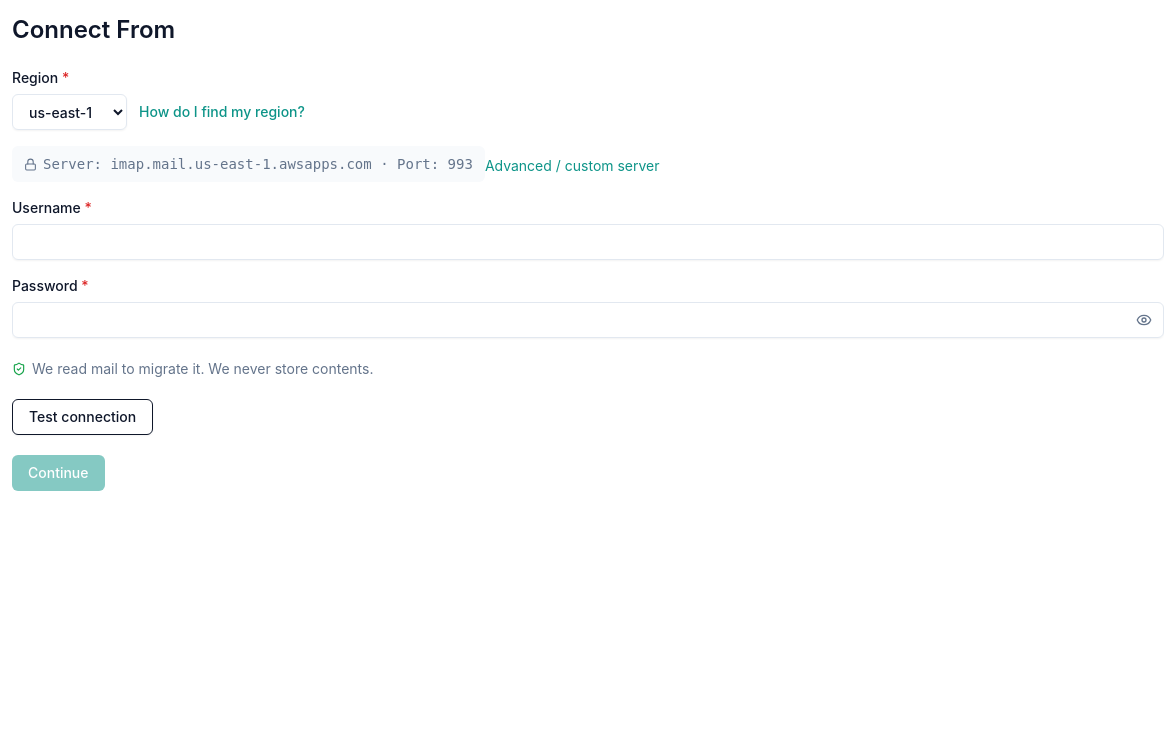
Test case: StepConnect (IMAP from / WorkMail) › disables Continue until a test connection succeeds
Expected: the button "Continue" is disabled, 12,455 -> 104,491
Type "old@biz.com" into the field labelled "Username *" at (588, 242), box 12,224 -> 1164,260
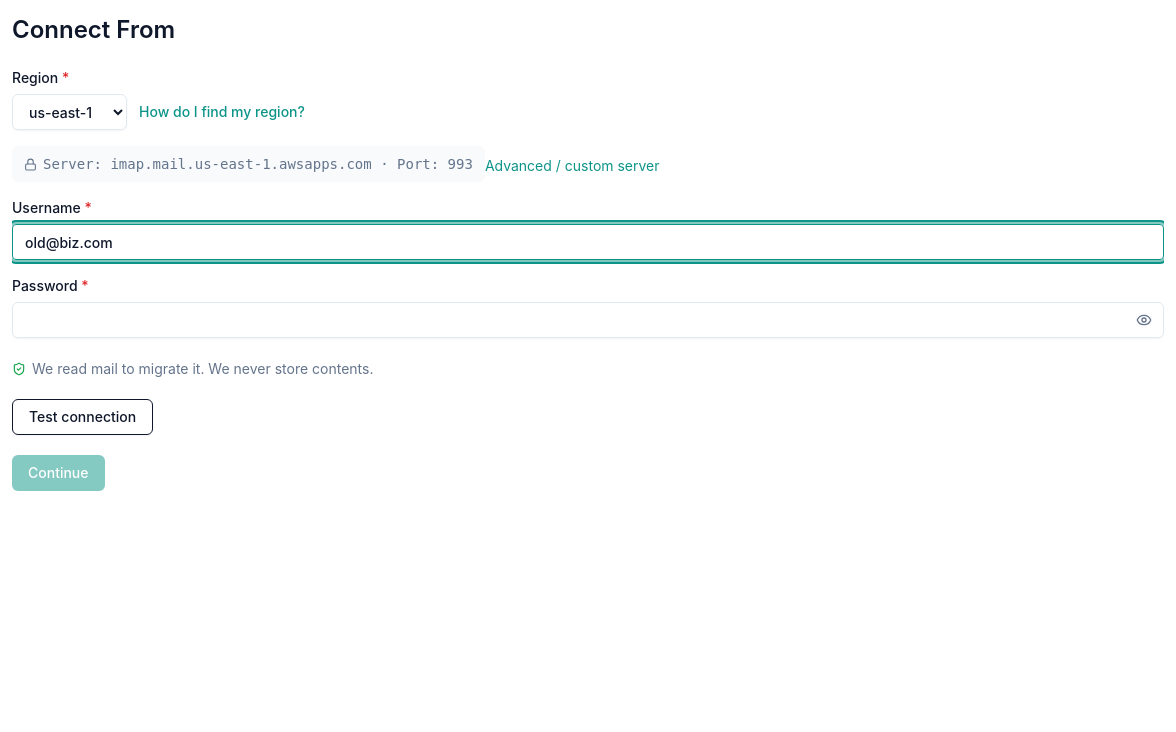
Type "app-pw" into the password field labelled "Password *" at (588, 320), box 12,302 -> 1164,338
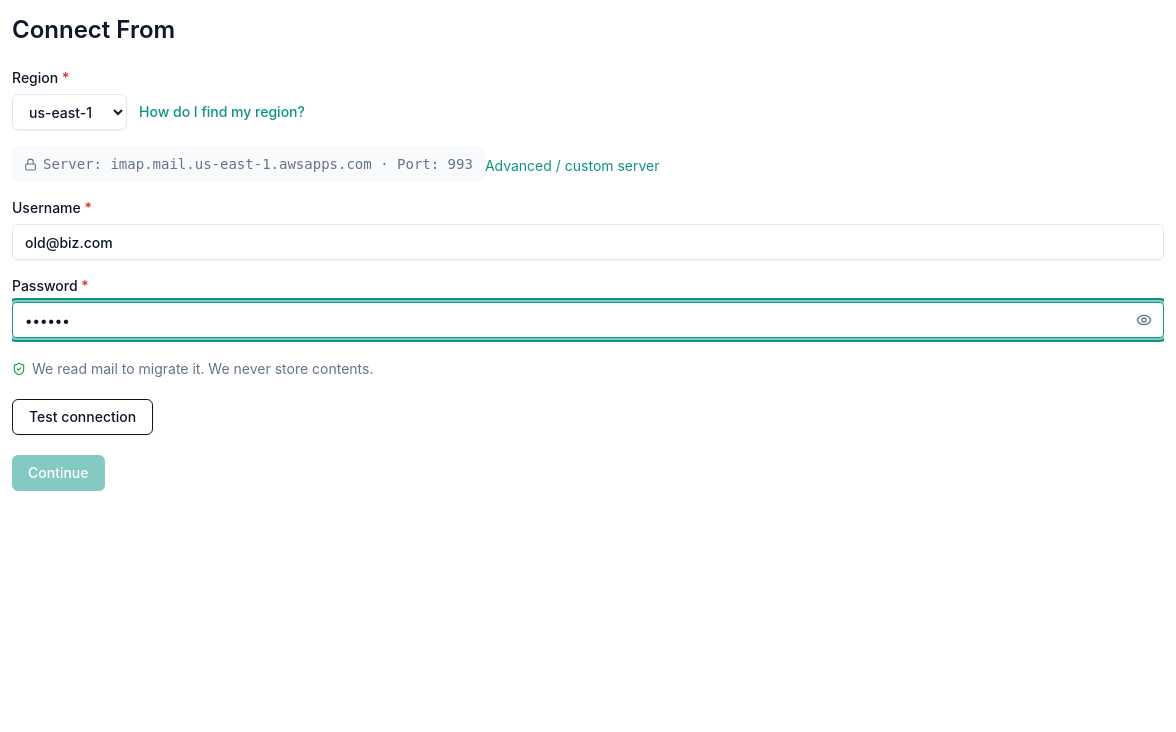
Click the button "Test connection" at (83, 417), box 12,399 -> 153,435
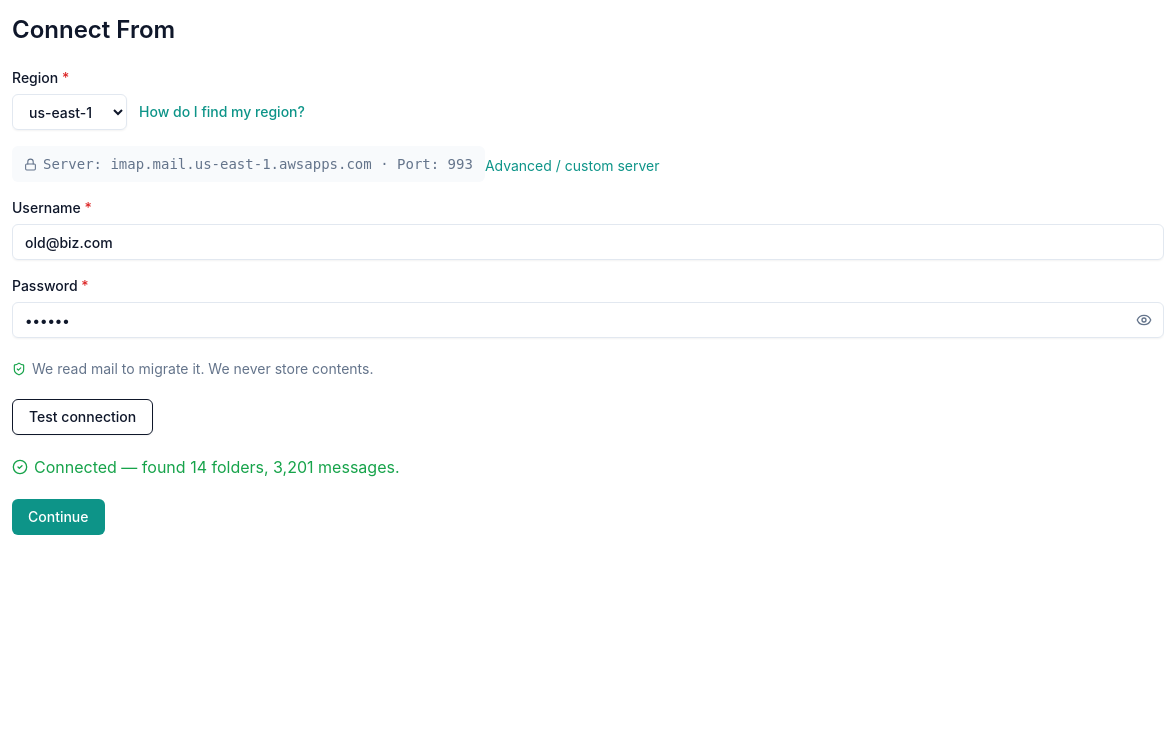
Now the text "Connected — found 14 folders, 3,201 messages." is shown, box 12,455 -> 400,479
Now the button "Continue" is enabled, box 12,499 -> 104,535
